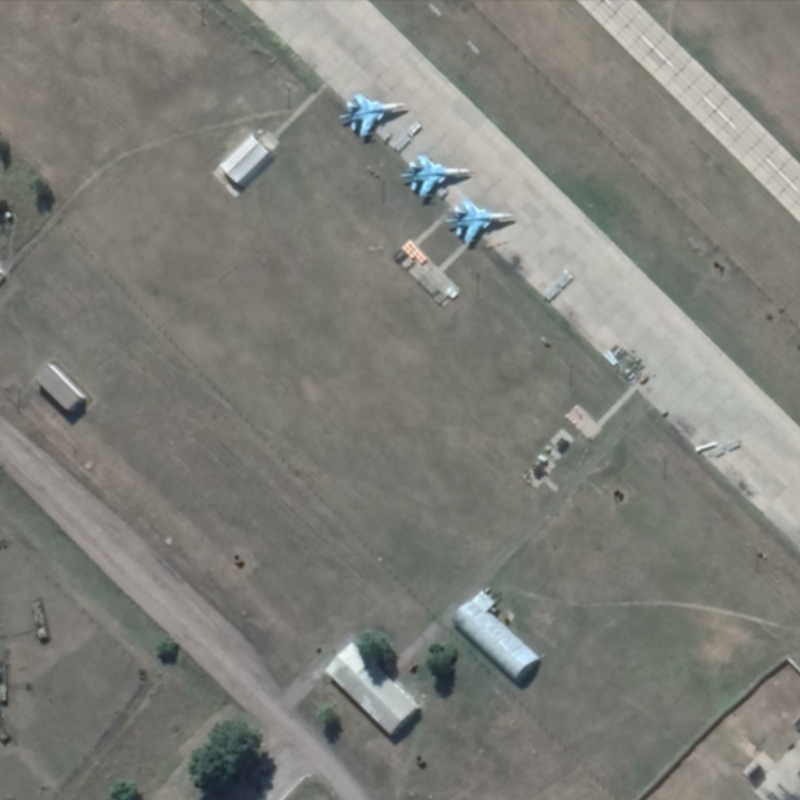A19: (442, 196, 517, 250), (397, 151, 472, 204), (338, 88, 408, 141)
